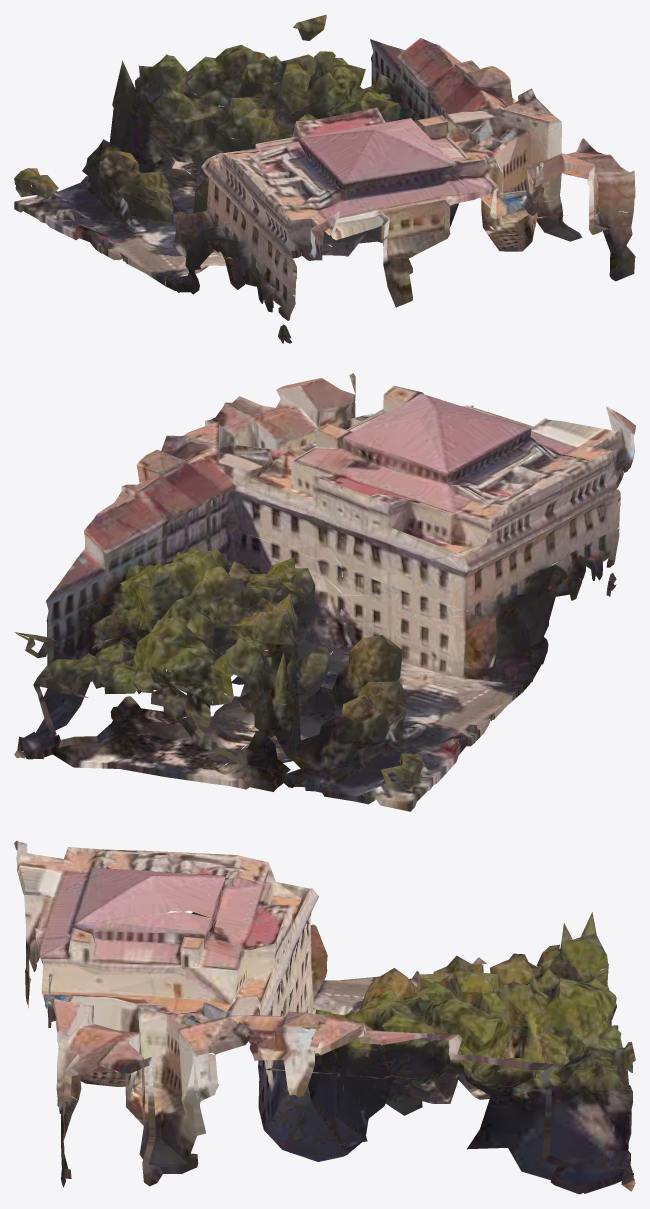
The picture shows the model from 3 angles, top to bottom: view 1: azimuth 30°, elevation 25°; view 2: azimuth 150°, elevation 25°; view 3: azimuth 270°, elevation 25°; orthographic projection. The views are drawn at different scales.
Visible parts, largest first — view 1: Mesh_0; view 2: Mesh_0; view 3: Mesh_0.
Part boxes in pixels (x1=…): Mesh_0: x1=14, y1=14, x2=635, y2=343; Mesh_0: x1=14, y1=373, x2=635, y2=811; Mesh_0: x1=14, y1=840, x2=635, y2=1194.
Size of the model in its own units: 67.52 by 32.95 by 82.57.
1 material, 1 textured.
